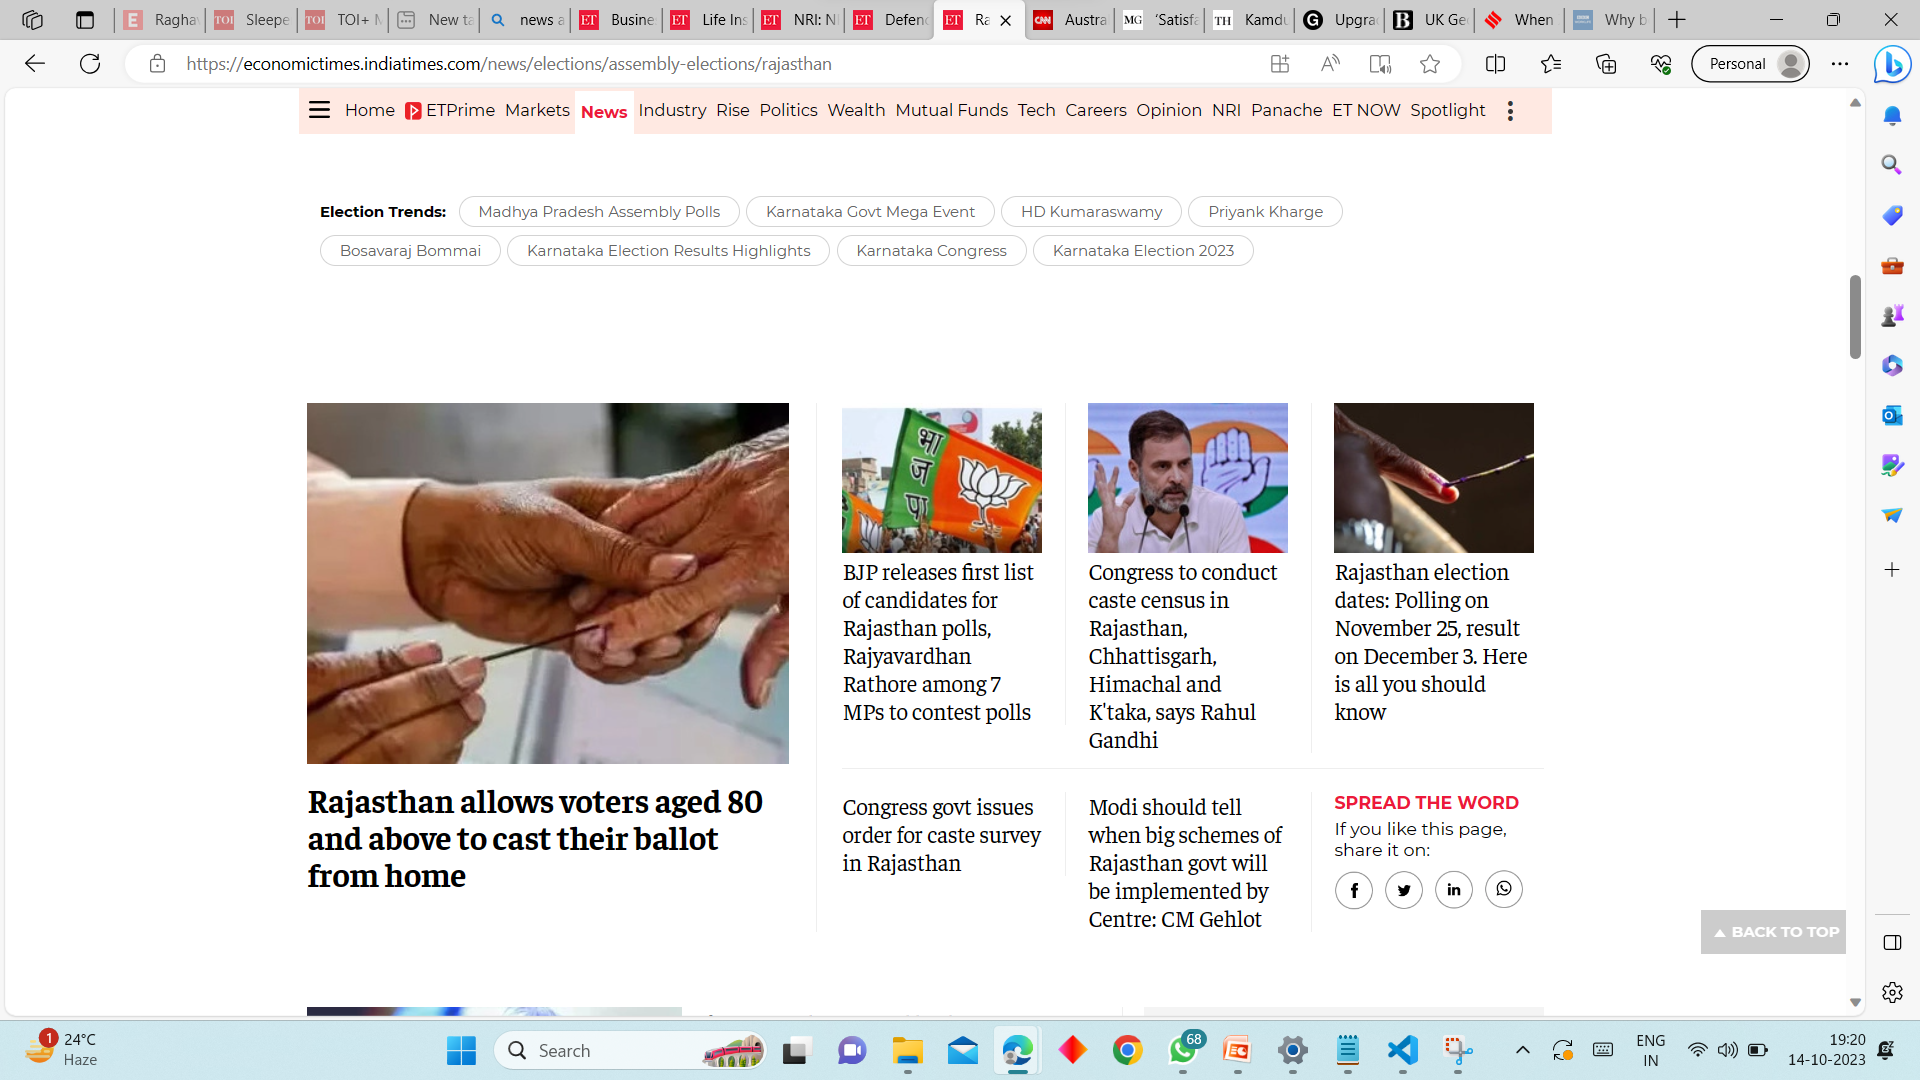Image: (305, 401, 781, 767), (1335, 398, 1536, 555), (1076, 402, 1288, 550), (833, 411, 1038, 550)
Paragraph: (319, 190, 1356, 282), (270, 774, 785, 906), (1076, 563, 1295, 762), (1333, 553, 1540, 731), (839, 563, 1051, 731), (1073, 796, 1286, 945), (827, 796, 1062, 897), (1324, 778, 1534, 861)
